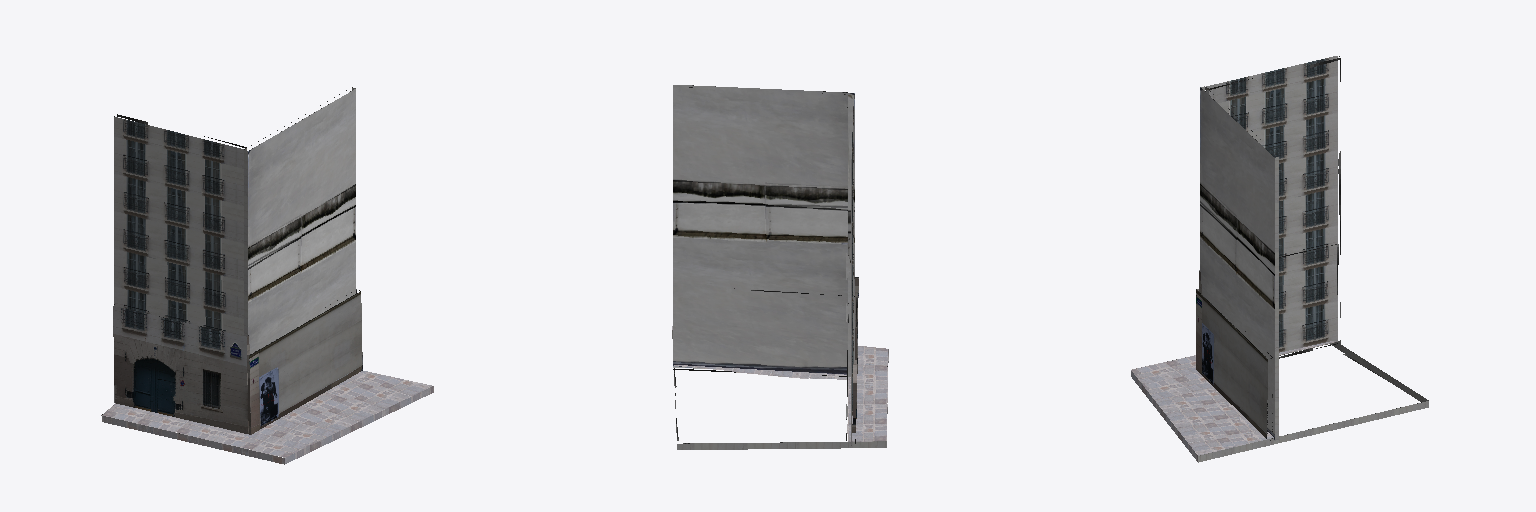
The picture shows the model from 3 angles: view 1: azimuth 30°, elevation 25°; view 2: azimuth 150°, elevation 25°; view 3: azimuth 270°, elevation 25°; orthographic projection.
Parts seen in each view (by area): view 1: polySurface31 polySurface343 polySurface1; view 2: polySurface31 polySurface343 polySurface1; view 3: polySurface31 polySurface343 polySurface1.
Part boxes in pixels (bbox=[...]): polySurface31 polySurface343 polySurface1: bbox=[101, 87, 433, 464]; polySurface31 polySurface343 polySurface1: bbox=[672, 85, 888, 449]; polySurface31 polySurface343 polySurface1: bbox=[1131, 56, 1428, 462].
Size of the model in its own units: 648 by 659 by 613.
1 materials, 1 textured.